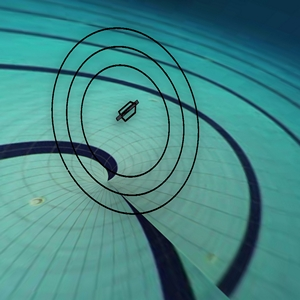circle: (43, 19, 205, 223)
submarine: (108, 92, 147, 131)
